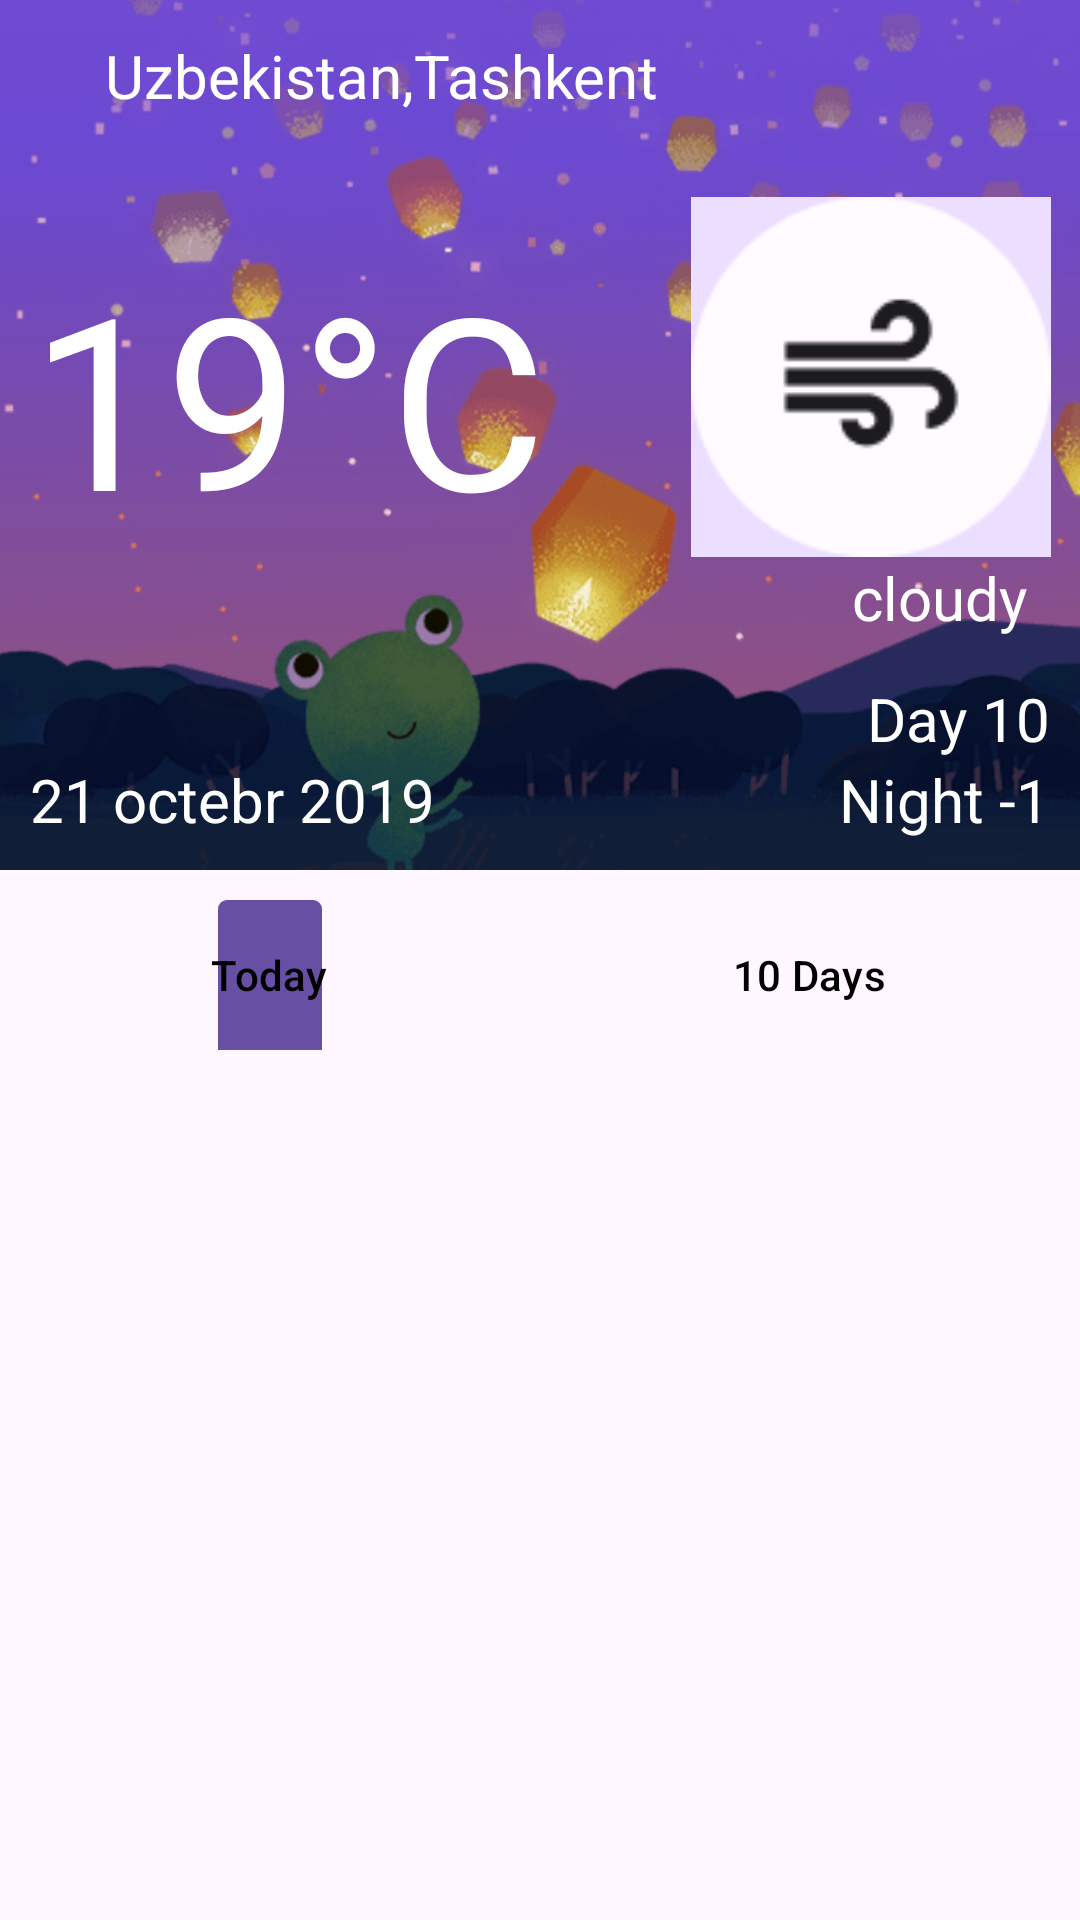

Icons on this 1080px×1920px Android screen, each with the point to tap as [x,y]:
windspeed: [871,377]
